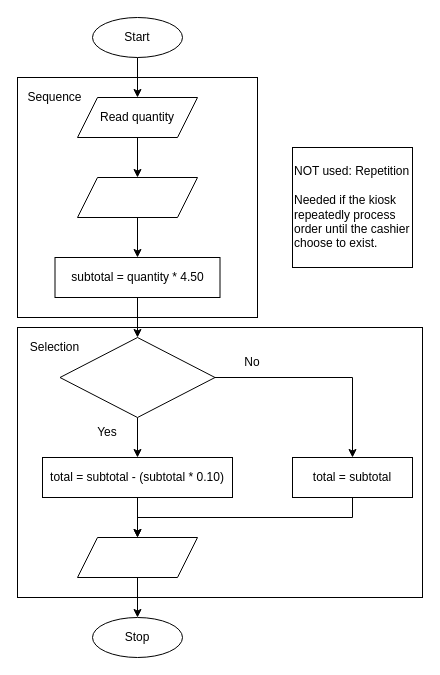
Some shapes in this 440 by 675 pixel diagram are drawn without their labels. Each missing label, with the centre of its shape:
Display total: pixel 137 557
member == 'Y' || member== 'y': pixel 137 377
Read member: pixel 137 197
